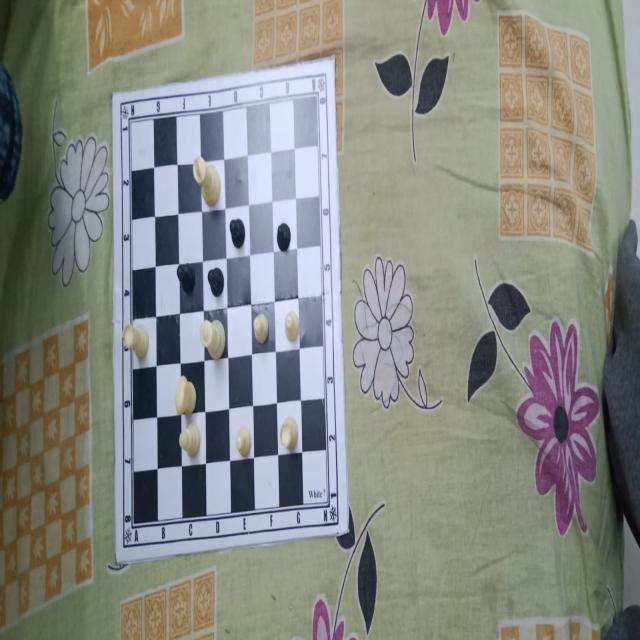corners: (338, 511, 354, 546), (108, 548, 125, 576), (108, 82, 122, 107), (327, 51, 338, 78)
